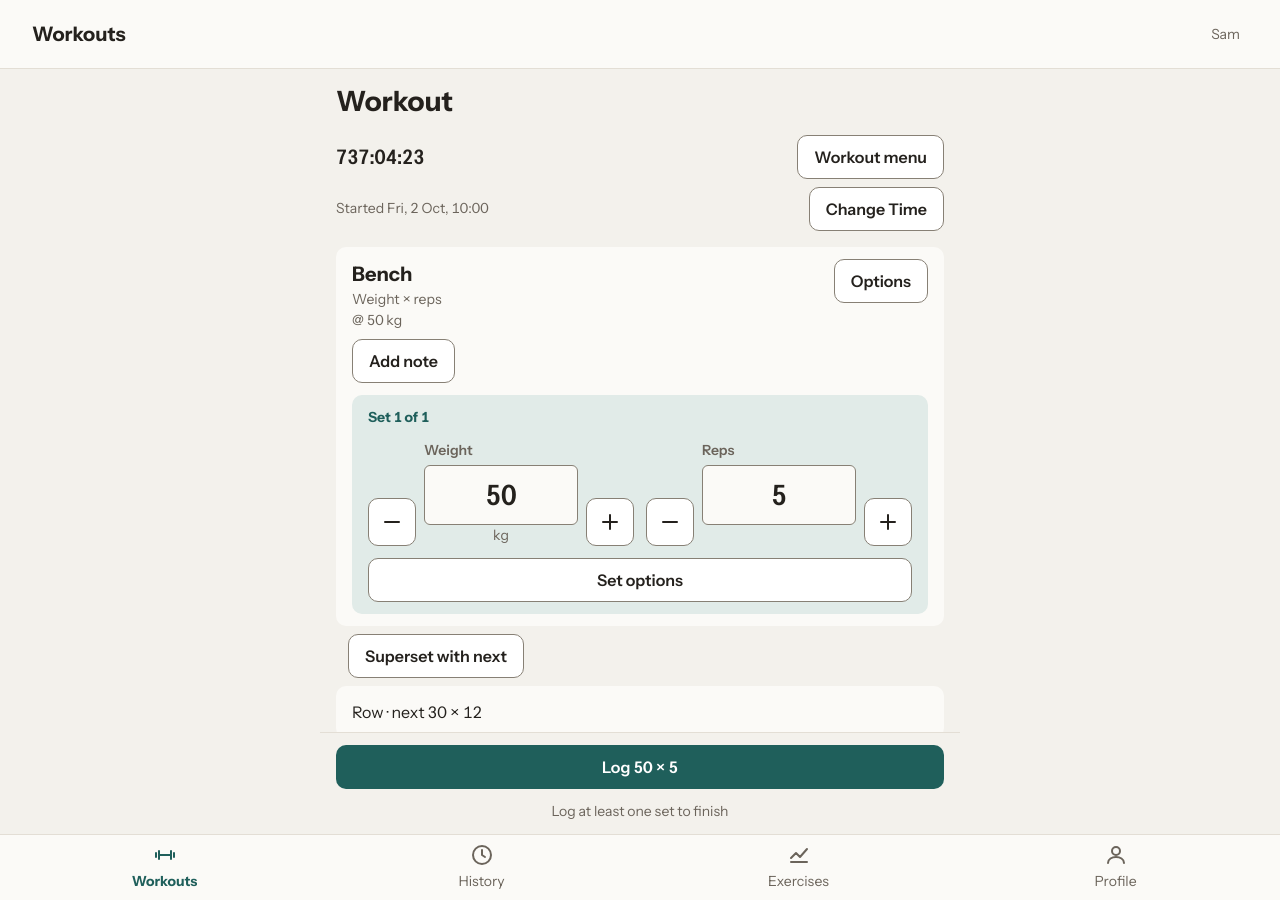
it: 10.2 AC28 — each card has its own plan and progress › Move down leaves every card's plan and progress intact
The image size is (1280, 900).
Expected: the heading "Workout" is shown, [336,84,453,118]
Click the button "Log 50 × 5".
click(640, 767)  # box [336,745,944,789]
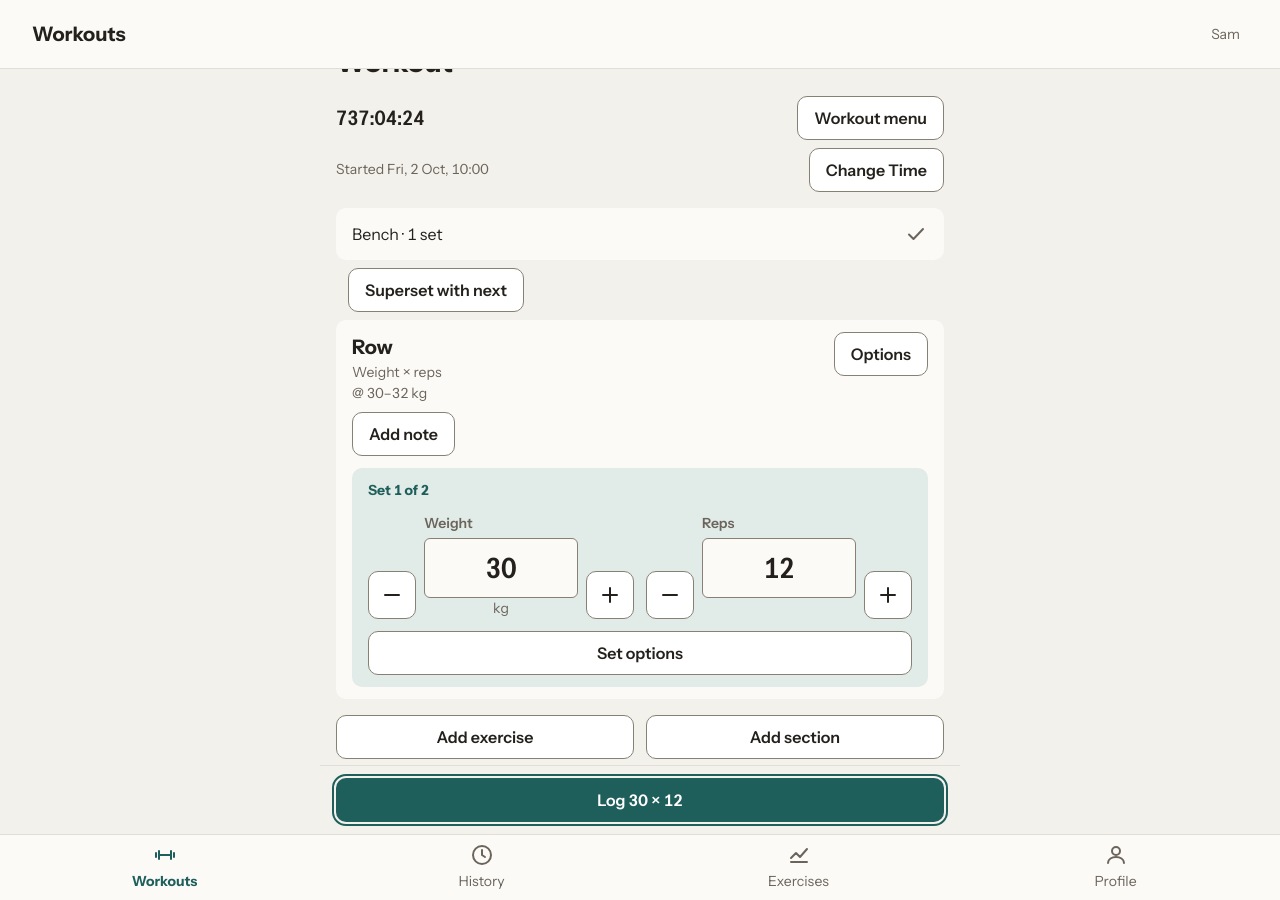
Click the button "Bench · 1 set".
click(397, 234)  # box [352,212,928,256]
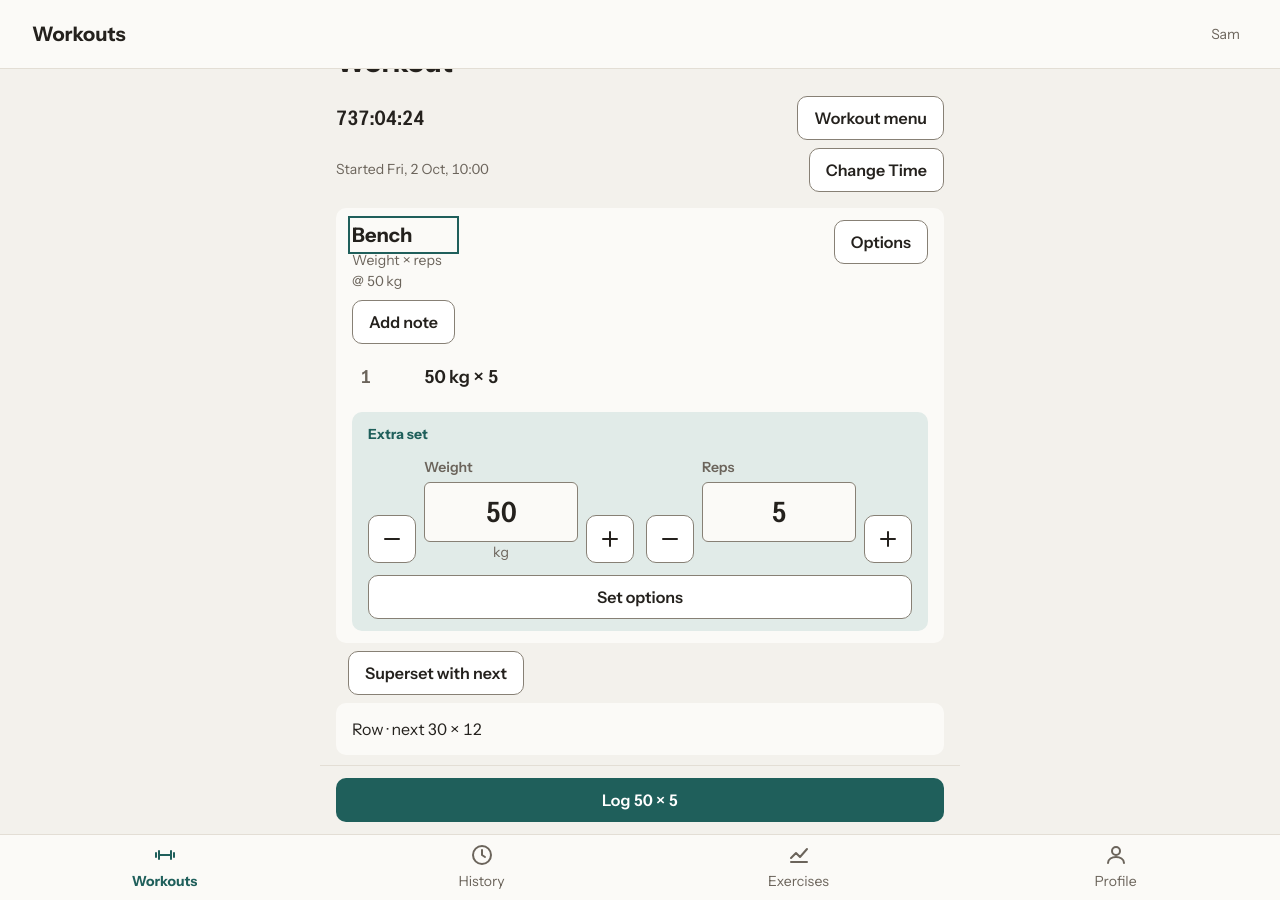
Expected: the text "Extra set" is shown, [368,424,428,445]
Click the button with aria-label "Options for ".
click(881, 242)  # box [834,220,928,264]
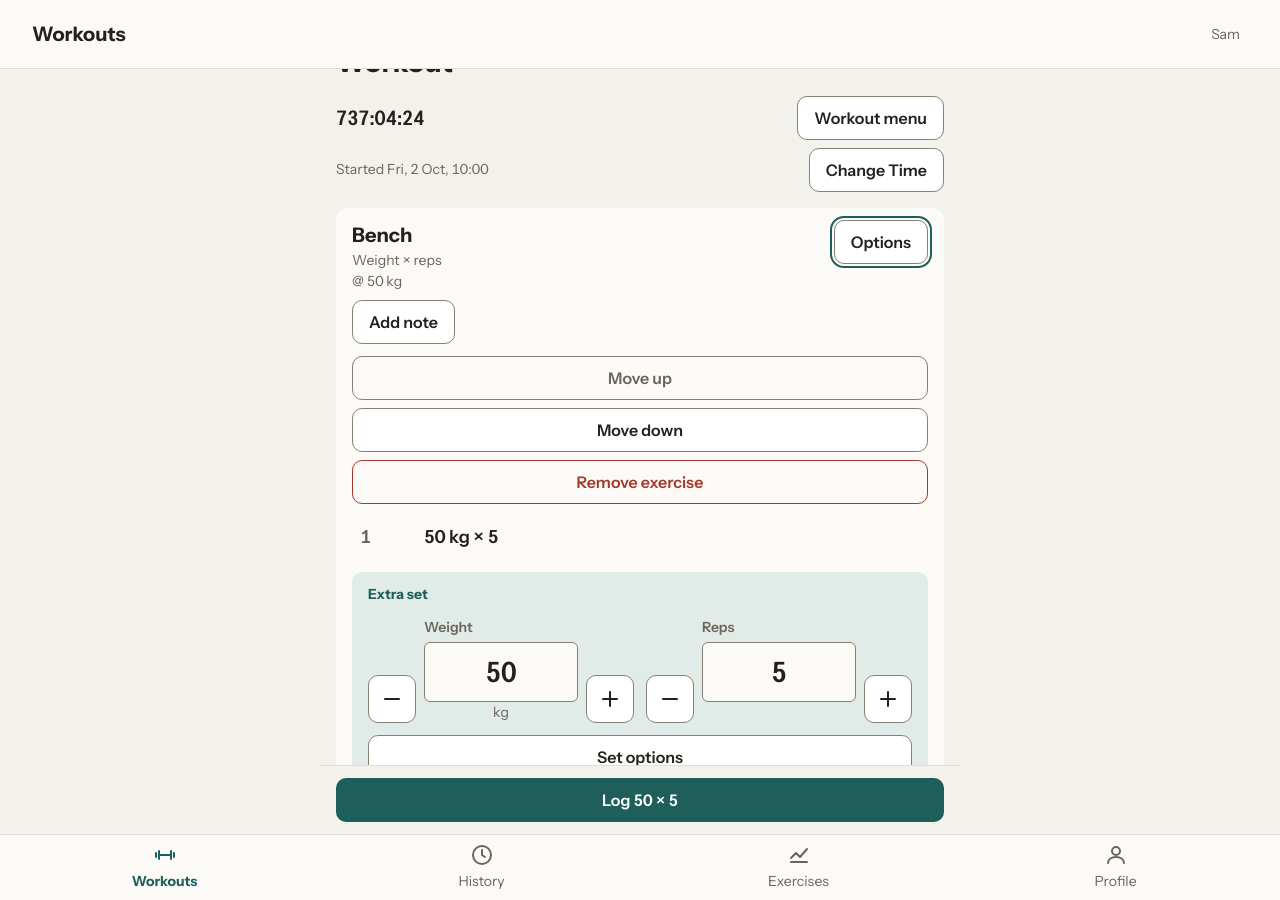
Click the button "Move down".
click(640, 430)  # box [352,408,928,452]
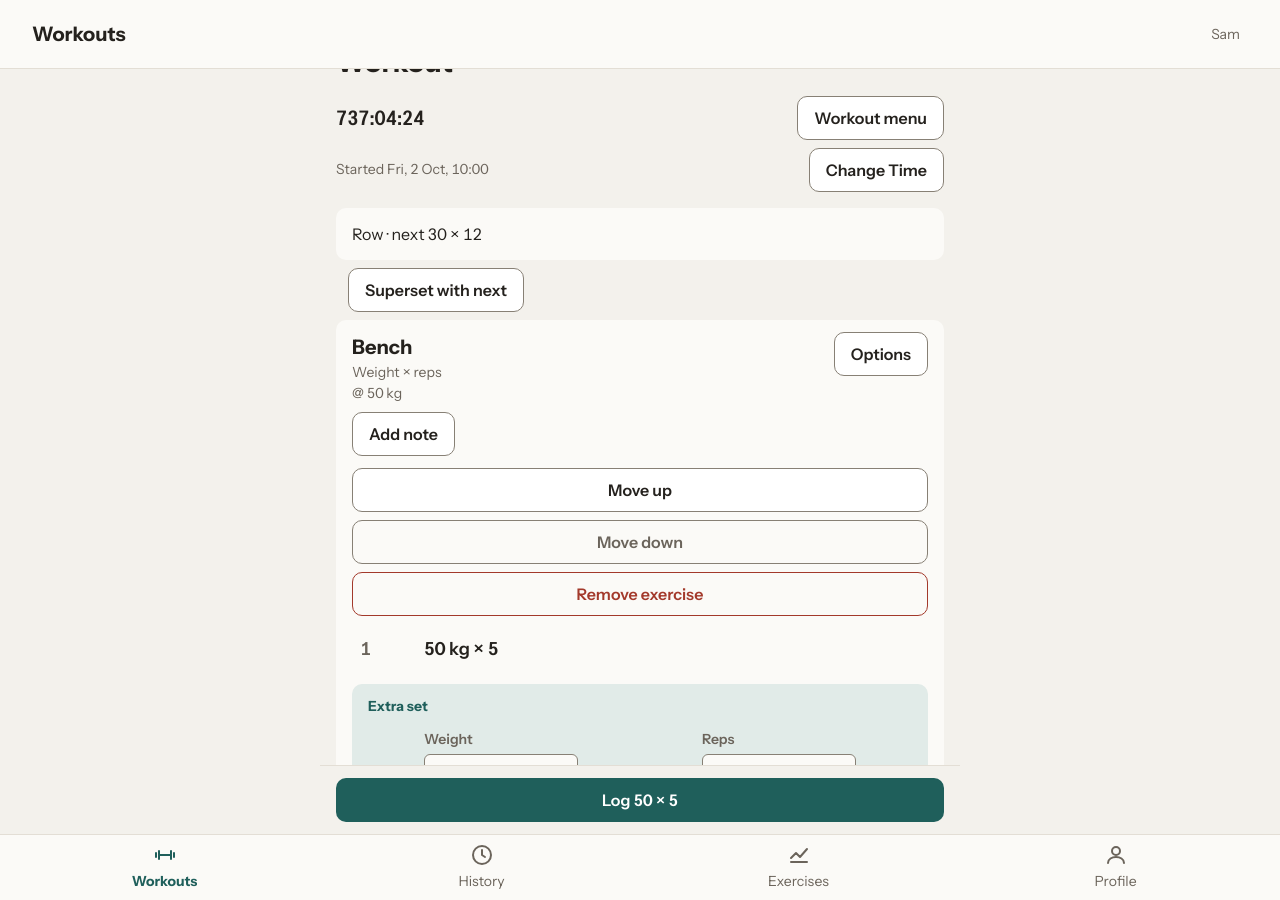
Expected: the text "Extra set" is shown, [368,696,428,717]
Click the button "Row · next 30 × 12".
click(417, 234)  # box [352,212,928,256]
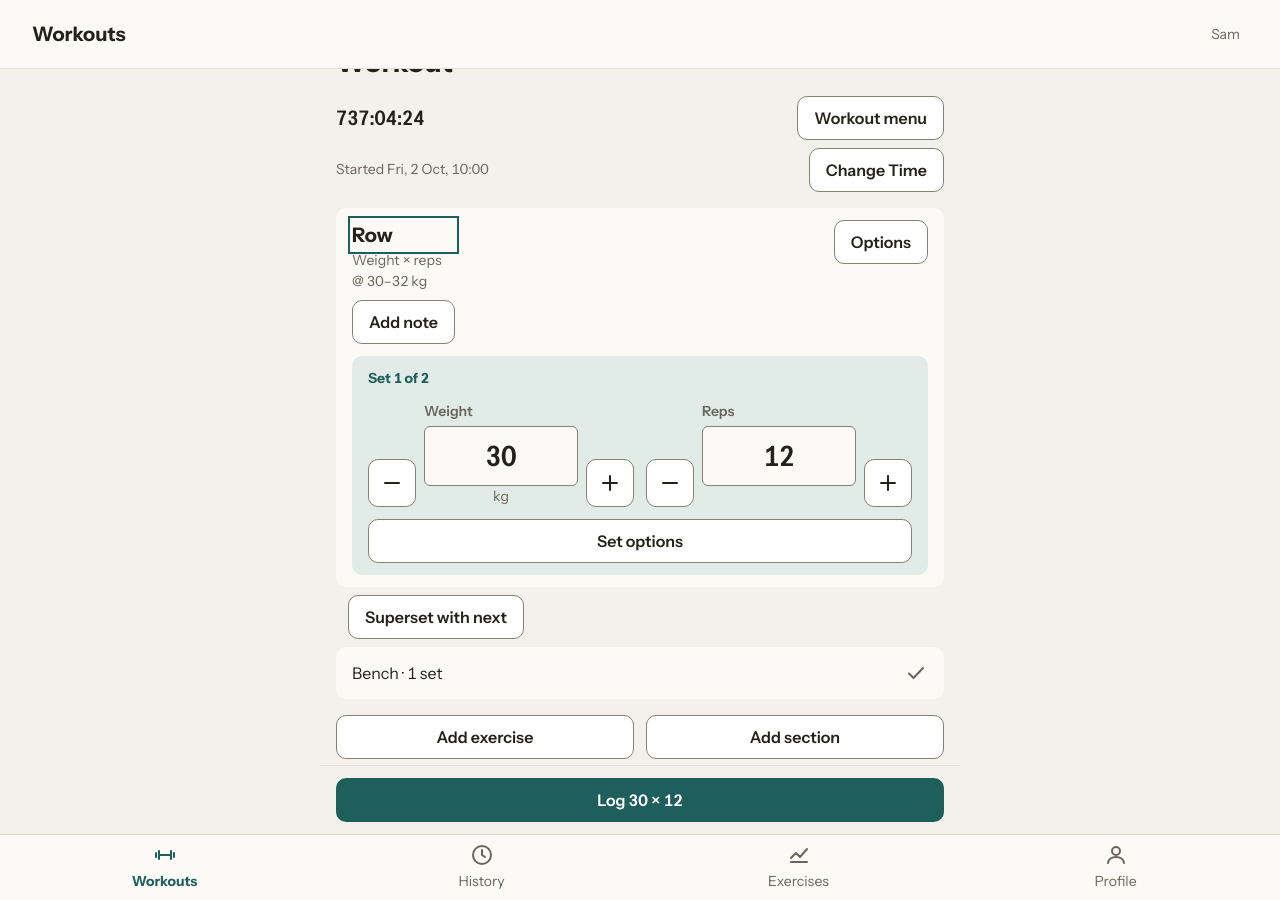
Expected: the text "Set 1 of 2" is shown, [368,368,429,389]
Expected: the field labelled "Weight" holds "30", [424,426,578,486]
